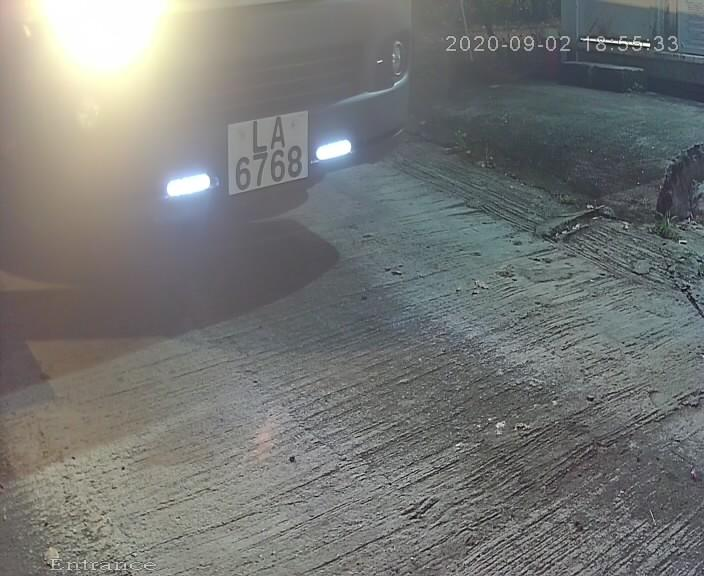License Plate: (202, 96, 337, 204)
